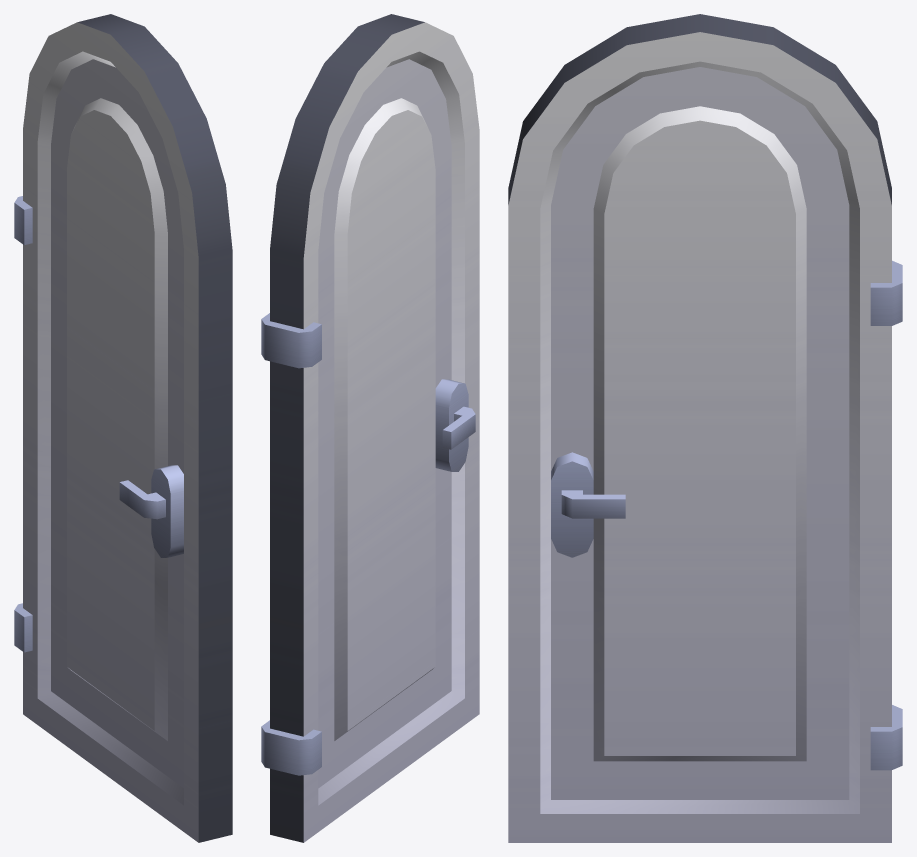
File: White door.glb
3 renders of one model, left to right at view 1: azimuth 30°, elevation 25°; view 2: azimuth 150°, elevation 25°; view 3: azimuth 270°, elevation 25°, orthographic. The views are drawn at different scales.
Parts seen in each view (by area): view 1: door, handle; view 2: door, handle; view 3: door, handle.
Part boxes in pixels (box(x1,y1,x2,y2)): door: box(14, 14, 232, 842); handle: box(119, 480, 165, 519); door: box(261, 14, 479, 842); handle: box(442, 406, 475, 449); door: box(508, 14, 902, 842); handle: box(561, 490, 625, 518).
Size of the model in its own units: 0.25 by 2.1 by 0.925.
1 material, 1 textured.
